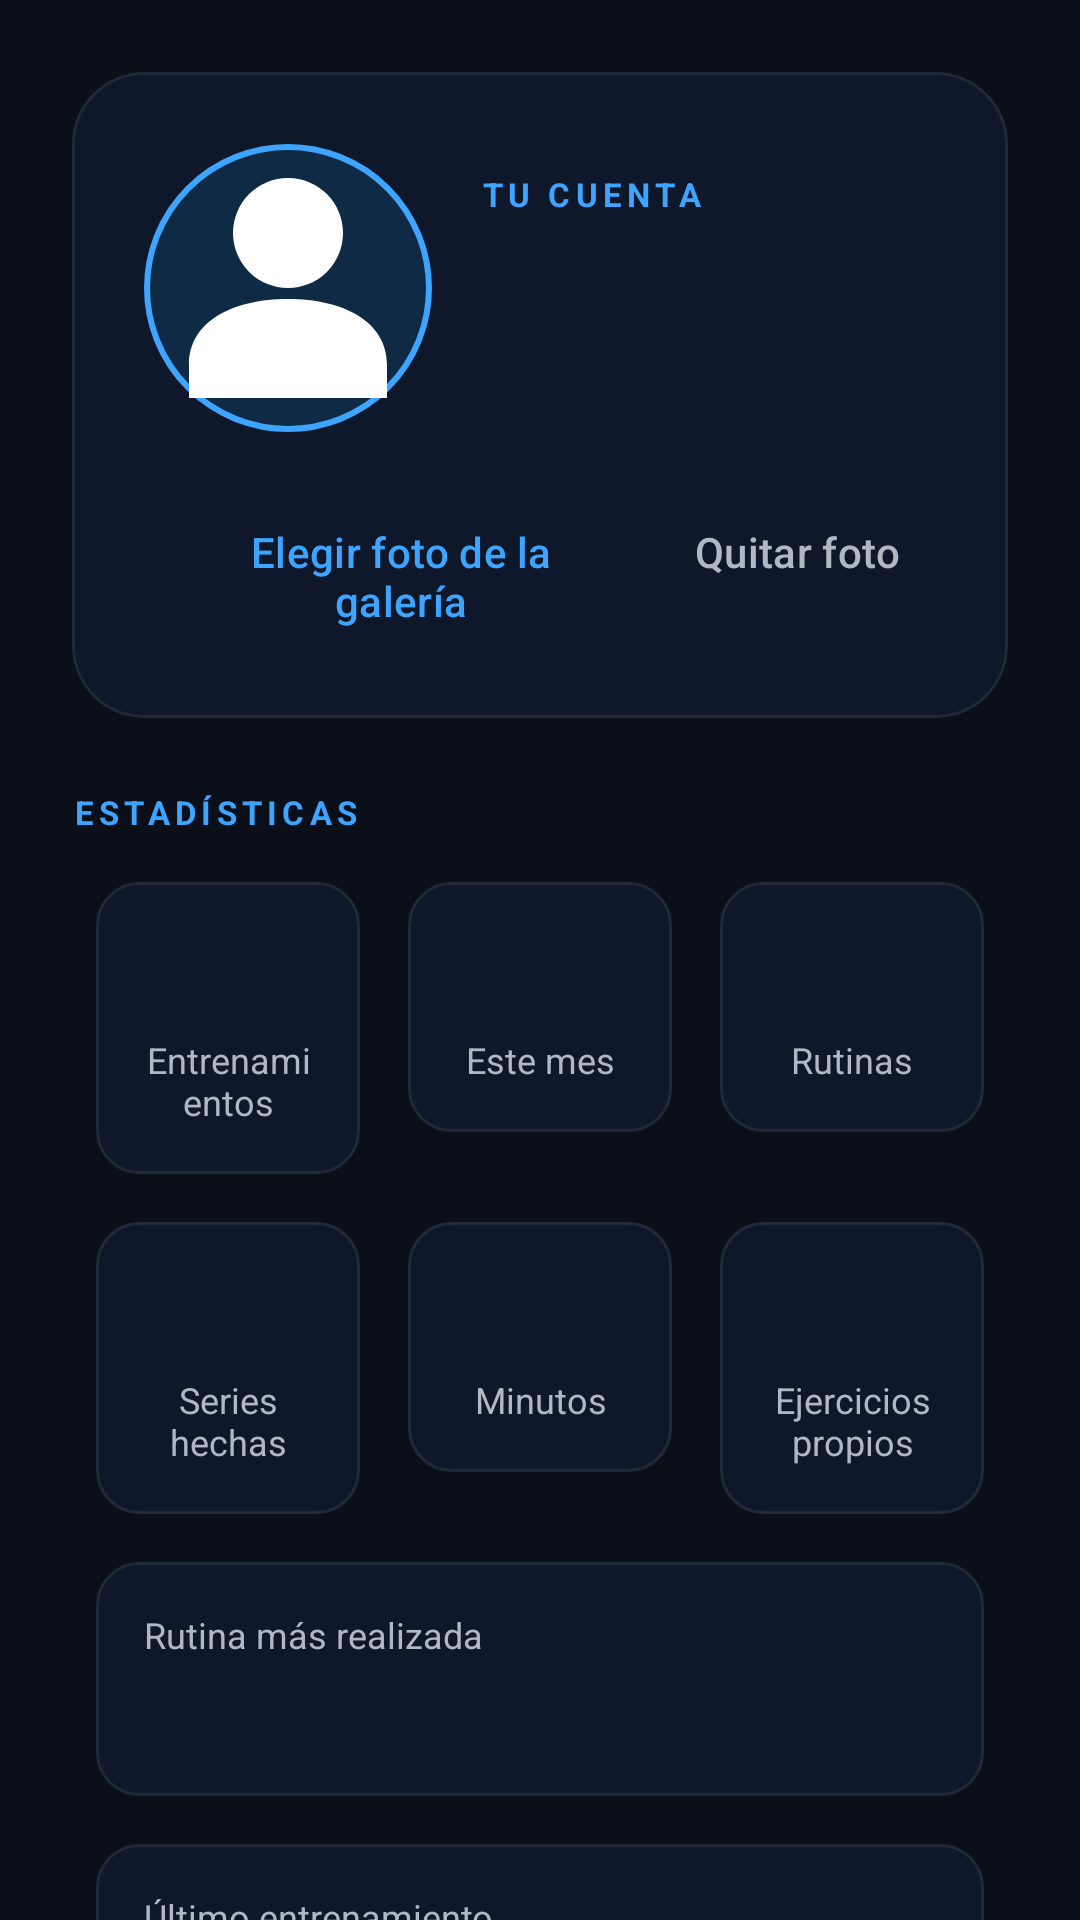

Icon bounding boxes for this 1080px×1920px phone screenshot, format (x1, y1, x2, y2):
Foto de perfil: (144, 144, 432, 432)
